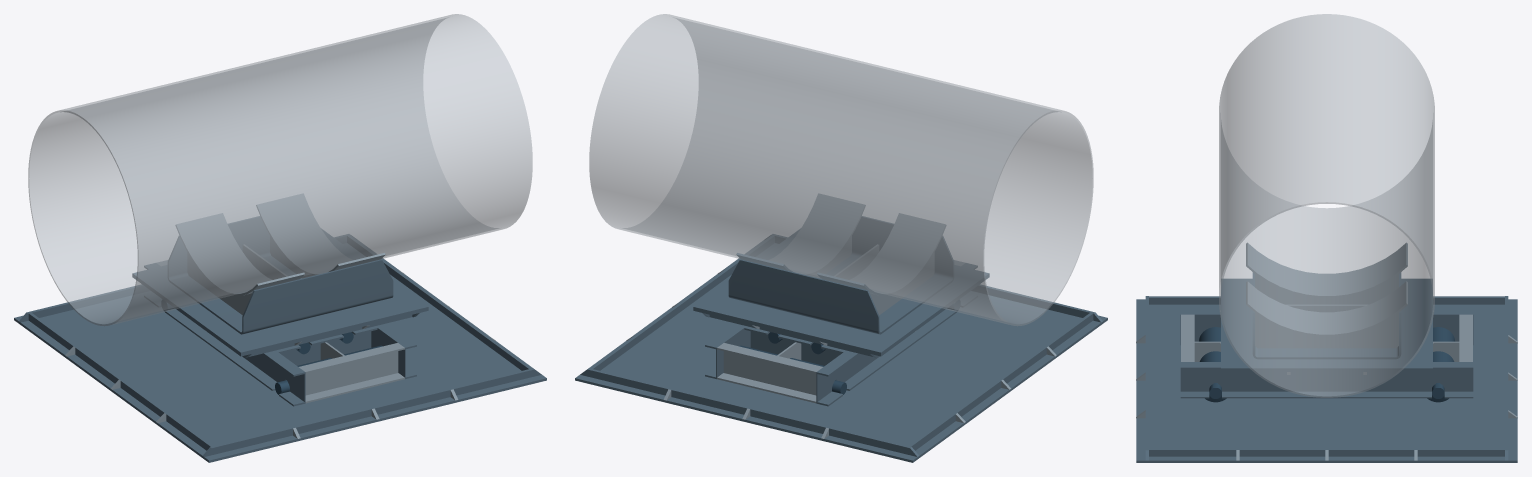
File: TS-628.00.000-25-opora-dn1020-hod400.glb
3 views of the same model, side by side, from view 1: azimuth 30°, elevation 25°; view 2: azimuth 150°, elevation 25°; view 3: azimuth 270°, elevation 25° (orthographic). The views are drawn at different scales.
Visible parts, largest first — view 1: truba, plita_niz_osnovanie_0, korpus_skoba_92, plita_verh_osnovanie_79, korpus_podushka_98, korpus_podushka_99, karetka_rebro_shveller_19, karetka_shveller_prodolnyj_17, plita_niz_polosa2_9, plita_niz_polosa3_10, plita_niz_polosa3_2, karetka_shveller_poperechnyj_18 (+4 smaller); view 2: truba, plita_niz_osnovanie_0, korpus_skoba_92, plita_verh_osnovanie_79, korpus_podushka_98, korpus_podushka_99, karetka_rebro_shveller_22, karetka_shveller_prodolnyj_17, plita_niz_polosa2_1, plita_niz_polosa3_10, plita_niz_polosa3_2, karetka_shveller_poperechnyj_21 (+4 smaller); view 3: truba, plita_niz_osnovanie_0, karetka_shveller_prodolnyj_20, plita_verh_osnovanie_79, korpus_podushka_99, korpus_podushka_98, plita_niz_polosa3_2, korpus_rebro3_96, korpus_skoba_92, korpus_rebro3_94, karetka_shveller_prodolnyj_17, plita_niz_polosa3_10 (+8 smaller).
Part boxes in pixels (<box>): truba: <box>28,14,532,326</box>; plita_niz_osnovanie_0: <box>14,241,546,462</box>; korpus_skoba_92: <box>168,216,393,334</box>; plita_verh_osnovanie_79: <box>132,229,428,356</box>; korpus_podushka_98: <box>176,213,304,295</box>; korpus_podushka_99: <box>256,194,385,275</box>; karetka_rebro_shveller_19: <box>299,343,404,403</box>; karetka_shveller_prodolnyj_17: <box>144,263,305,406</box>; plita_niz_polosa2_9: <box>203,368,541,456</box>; plita_niz_polosa3_10: <box>28,313,213,450</box>; plita_niz_polosa3_2: <box>347,235,531,370</box>; karetka_shveller_poperechnyj_18: <box>276,326,377,365</box>; truba: <box>589,14,1093,326</box>; plita_niz_osnovanie_0: <box>575,241,1107,462</box>; korpus_skoba_92: <box>728,216,953,334</box>; plita_verh_osnovanie_79: <box>693,229,989,356</box>; korpus_podushka_98: <box>817,213,945,295</box>; korpus_podushka_99: <box>736,194,865,275</box>; karetka_rebro_shveller_22: <box>717,343,822,403</box>; karetka_shveller_prodolnyj_17: <box>816,263,977,406</box>; plita_niz_polosa2_1: <box>580,368,918,456</box>; plita_niz_polosa3_10: <box>908,313,1093,450</box>; plita_niz_polosa3_2: <box>590,235,774,370</box>; karetka_shveller_poperechnyj_21: <box>744,326,845,365</box>; truba: <box>1219,14,1434,397</box>; plita_niz_osnovanie_0: <box>1136,299,1517,462</box>; karetka_shveller_prodolnyj_20: <box>1180,362,1473,398</box>; plita_verh_osnovanie_79: <box>1221,278,1432,371</box>; korpus_podushka_99: <box>1246,281,1407,336</box>; korpus_podushka_98: <box>1246,242,1407,297</box>; plita_niz_polosa3_2: <box>1149,448,1504,456</box>; korpus_rebro3_96: <box>1255,313,1398,348</box>; korpus_skoba_92: <box>1252,272,1401,359</box>; korpus_rebro3_94: <box>1255,274,1398,304</box>; karetka_shveller_prodolnyj_17: <box>1180,308,1473,344</box>; plita_niz_polosa3_10: <box>1149,296,1504,304</box>.
Bounding box in the file's own units: 2100 × 1428 × 1802.
